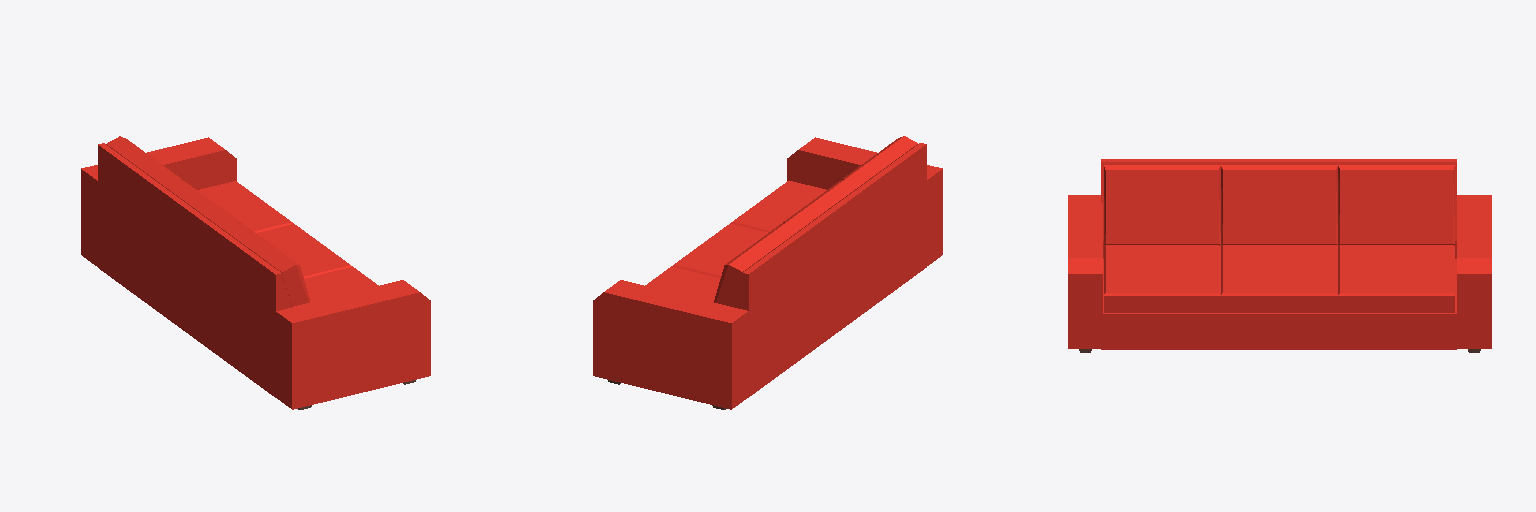
Rendered from Sofa_01.obj.
3 views of the same model, side by side, from view 1: azimuth 30°, elevation 25°; view 2: azimuth 150°, elevation 25°; view 3: azimuth 270°, elevation 25° (orthographic).
Visible parts, largest first — view 1: couch_Cube.029; view 2: couch_Cube.029; view 3: couch_Cube.029.
Part boxes in pixels (left/top/right/bottom): couch_Cube.029: left=81, top=136, right=430, bottom=409; couch_Cube.029: left=593, top=136, right=942, bottom=409; couch_Cube.029: left=1068, top=159, right=1491, bottom=352.
Size of the model in its own units: 10.52 by 9.76 by 27.79.